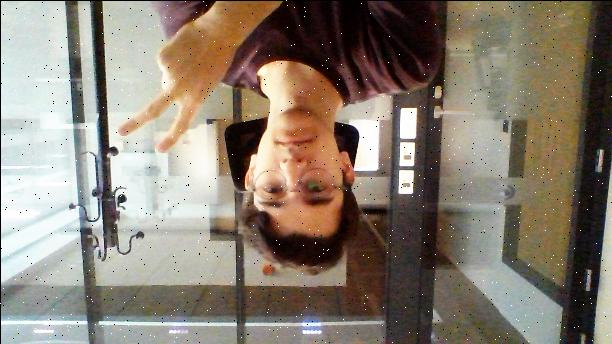Scissors: (115, 20, 234, 156)
